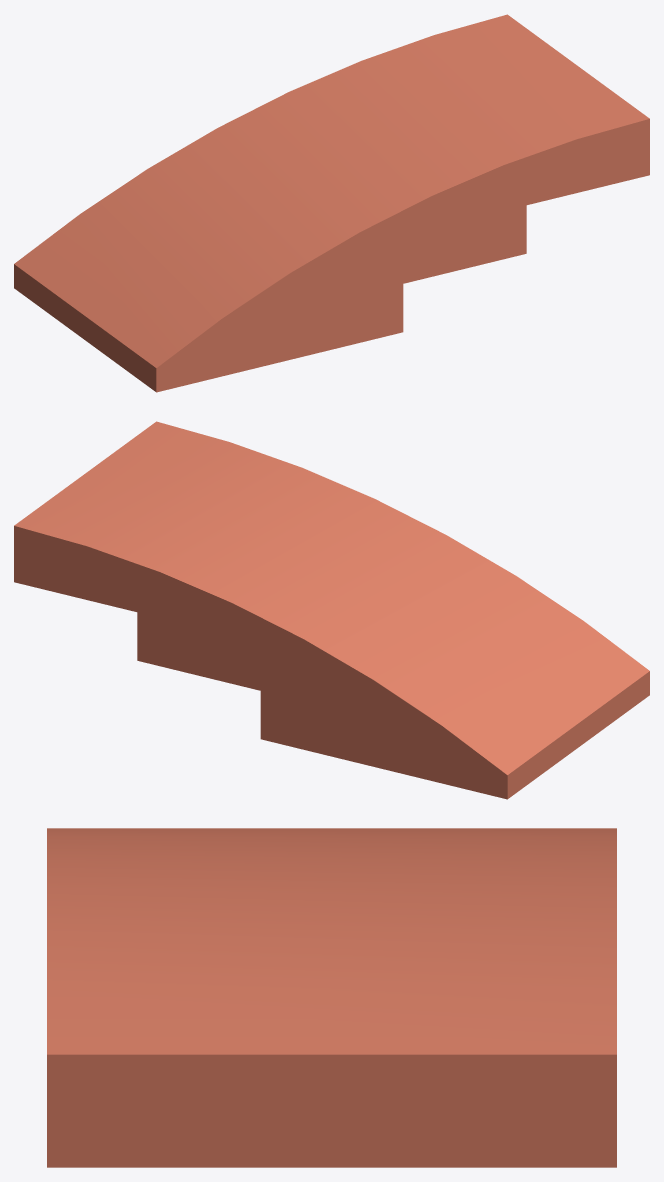
3 renders of one model, top to bottom at view 1: azimuth 30°, elevation 25°; view 2: azimuth 150°, elevation 25°; view 3: azimuth 270°, elevation 25°, orthographic. The views are drawn at different scales.
Visible parts, largest first — view 1: [pivoted]; view 2: [pivoted]; view 3: [pivoted].
Part boxes in pixels (bbox=[...]): [pivoted]: bbox=[14, 14, 649, 392]; [pivoted]: bbox=[14, 421, 649, 799]; [pivoted]: bbox=[47, 828, 616, 1167].
Bounding box in the file's own units: 3.2 × 0.95 × 1.6.
